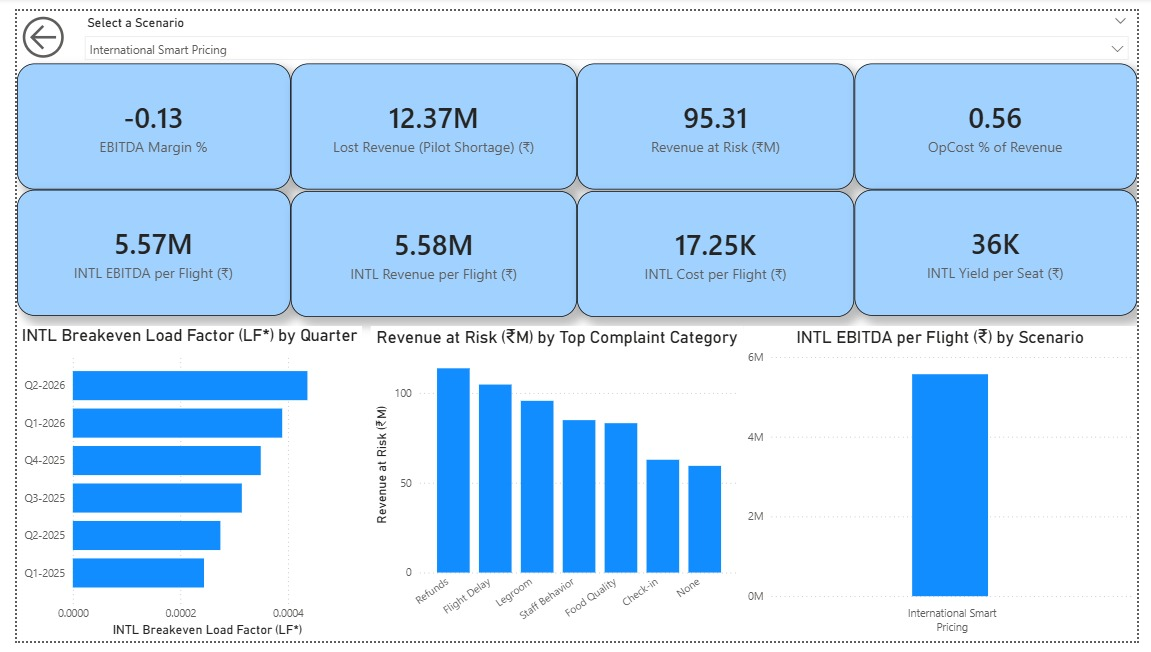

The dashboard page shown, as its layout file describes it:
{"tool":"powerbi","page":{"name":"intl stats","canvas":[1280,720],"ordinal":1},"visuals":[{"type":"cardVisual","fields":{"Data":["_measures (2).EBITDA Margin %"]},"box":[0,60,312.9,144.3],"z":0,"group":"g1"},{"type":"slicer","fields":{"Values":["international data.Scenario_Name"]},"box":[67.1,0,1212.9,60],"z":0},{"type":"cardVisual","fields":{"Data":["_measures (2).Lost Revenue (Pilot Shortage) (₹)"]},"box":[312.9,60,327.1,144.3],"z":1000,"group":"g1"},{"type":"group","id":"g1","title":"Group 1","box":[0,60,1280,290],"z":1000},{"type":"barChart","fields":{"Y":["_measures (2).INTL Breakeven Load Factor (LF*)"],"Category":["Quarterly fin.Quarter"]},"box":[0,360,394.3,360],"z":1001},{"type":"clusteredColumnChart","title":"Revenue at Risk (₹M) by Top Complaint Category","fields":{"Category":["customerexp.Top_Complaint_Category"],"Y":["_measures (2).Revenue at Risk (₹M)"]},"box":[404.3,360,425.7,360],"z":1002},{"type":"actionButton","box":[0,0,100,60],"z":1003},{"type":"clusteredColumnChart","fields":{"Category":["international data.Scenario_Name"],"Y":["_measures (2).INTL EBITDA per Flight (₹)"]},"box":[830,360,450,360],"z":1004},{"type":"cardVisual","fields":{"Data":["_measures (2).Revenue at Risk (₹M)"]},"box":[640,60,317.1,144.3],"z":2000,"group":"g1"},{"type":"cardVisual","fields":{"Data":["_measures (2).OpCost % of Revenue"]},"box":[957.1,60,322.9,144.3],"z":3000,"group":"g1"},{"type":"cardVisual","fields":{"Data":["_measures (2).INTL EBITDA per Flight (₹)"]},"box":[0,204.3,312.9,144.3],"z":4000,"group":"g1"},{"type":"cardVisual","fields":{"Data":["_measures (2).INTL Revenue per Flight (₹)"]},"box":[312.9,205.7,327.1,144.3],"z":5000,"group":"g1"},{"type":"cardVisual","fields":{"Data":["_measures (2).INTL Cost per Flight (₹)"]},"box":[640,205.7,317.1,144.3],"z":6000,"group":"g1"},{"type":"cardVisual","fields":{"Data":["Quarterly fin.INTL Yield per Seat (₹)"]},"box":[957.1,204.3,322.9,144.3],"z":7000,"group":"g1"}]}

Visuals, with their boxes in screenshot pixels (x1, y1, x2, y2), scaled from the page's 1280x720 canvas onto the 1151x652 screenshot:
cardVisual - _measures (2).EBITDA Margin %: 0,54,281,185
slicer - international data.Scenario_Name: 60,0,1150,54
cardVisual - _measures (2).Lost Revenue (Pilot Shortage) (₹): 281,54,576,185
"Group 1" group: 0,54,1150,317
barChart - _measures (2).INTL Breakeven Load Factor (LF*) x Quarterly fin.Quarter: 0,326,355,651
"Revenue at Risk (₹M) by Top Complaint Category" clusteredColumnChart: 364,326,746,651
actionButton: 0,0,90,54
clusteredColumnChart - international data.Scenario_Name x _measures (2).INTL EBITDA per Flight (₹): 746,326,1150,651
cardVisual - _measures (2).Revenue at Risk (₹M): 576,54,861,185
cardVisual - _measures (2).OpCost % of Revenue: 861,54,1150,185
cardVisual - _measures (2).INTL EBITDA per Flight (₹): 0,185,281,316
cardVisual - _measures (2).INTL Revenue per Flight (₹): 281,186,576,317
cardVisual - _measures (2).INTL Cost per Flight (₹): 576,186,861,317
cardVisual - Quarterly fin.INTL Yield per Seat (₹): 861,185,1150,316
